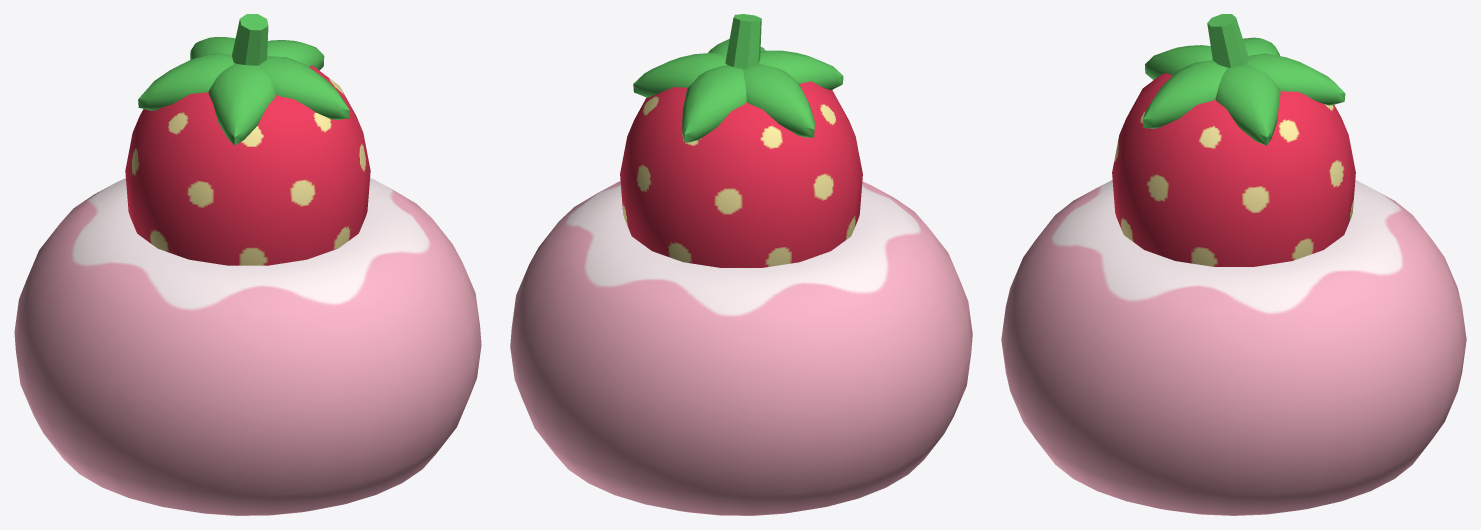
File: StrawberryDaifuku.glb
3 views of the same model, side by side, from view 1: azimuth 30°, elevation 25°; view 2: azimuth 150°, elevation 25°; view 3: azimuth 270°, elevation 25° (orthographic).
Visible parts, largest first — view 1: StrawberryDaifuku; view 2: StrawberryDaifuku; view 3: StrawberryDaifuku.
Part boxes in pixels (x1,y1,x2,y2): StrawberryDaifuku: (14,14,481,515); StrawberryDaifuku: (510,14,972,515); StrawberryDaifuku: (1001,14,1466,515).
Size of the model in its own units: 1.1 by 1.14 by 1.1.
Materials: 3 (3 with a texture image).
